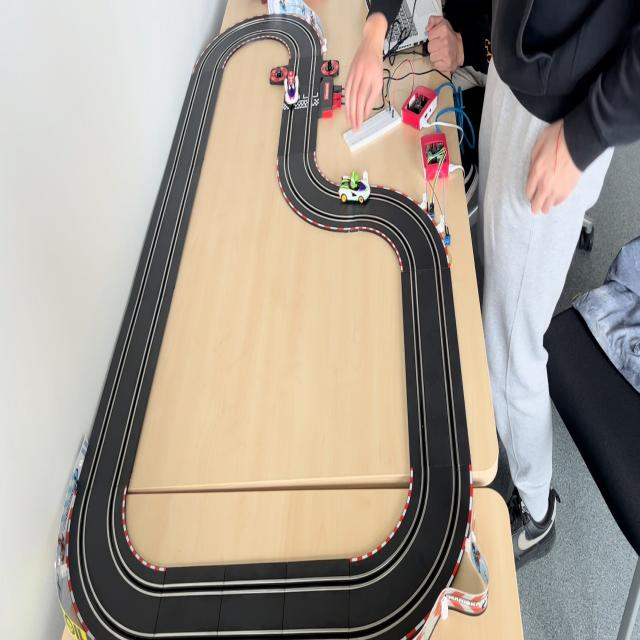mario: (284, 70, 300, 107)
yoshi: (338, 167, 372, 204)
